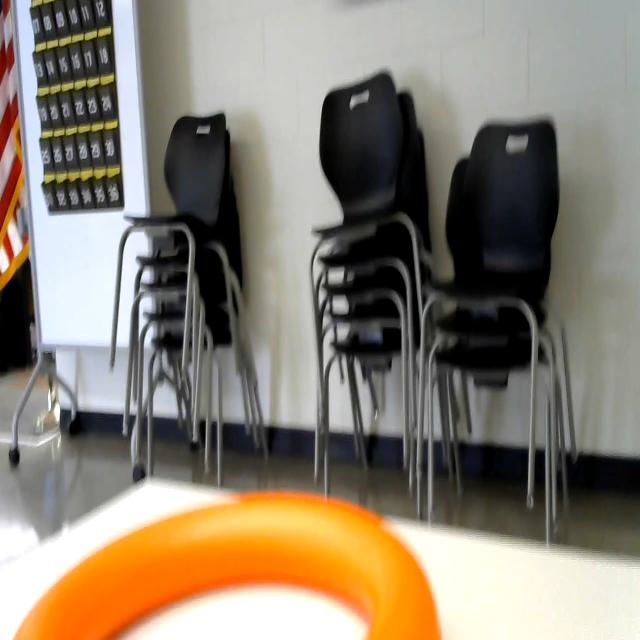note: (0, 477, 464, 640)
